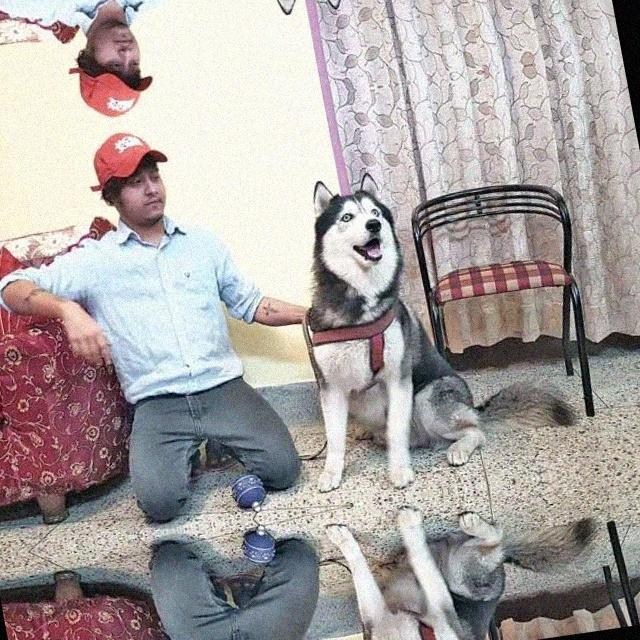dog: (270, 153, 498, 494), (334, 497, 528, 640), (227, 0, 411, 30)
person: (0, 110, 314, 526), (0, 0, 242, 137), (71, 529, 347, 640)
